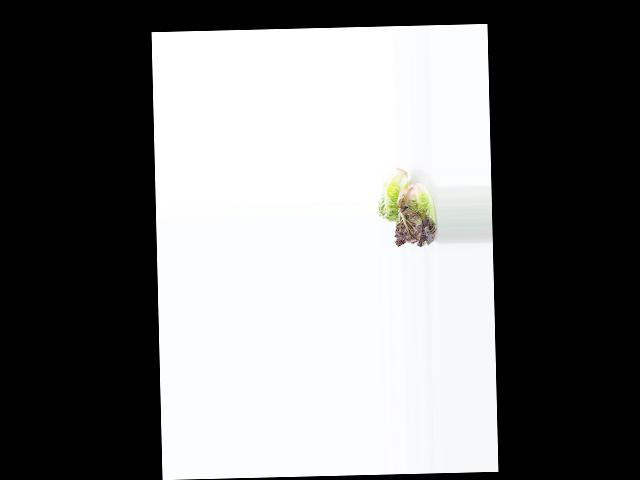lettuce: (376, 165, 410, 223)
